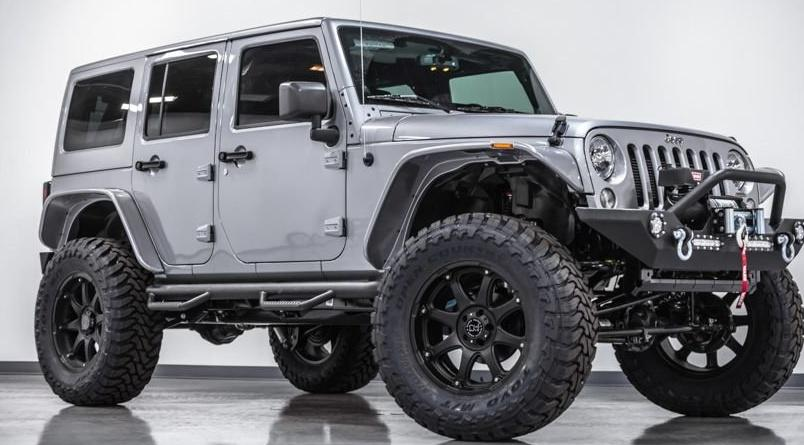SUV: (36, 20, 804, 442)
